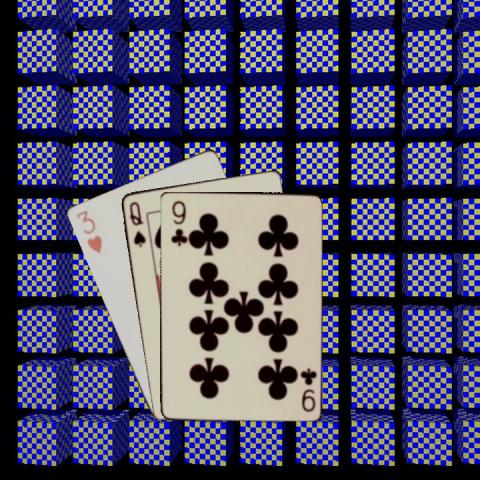3h: (73, 207, 103, 255)
9c: (298, 364, 318, 412), (168, 197, 185, 247)
Qs: (126, 198, 147, 248)
